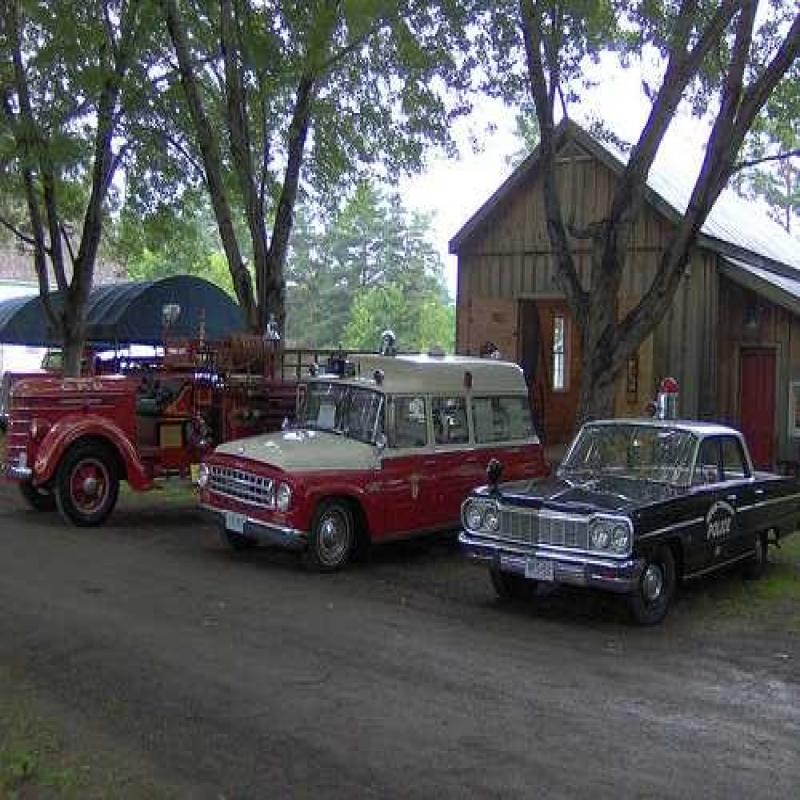AmbulanceSiren: (654, 374, 690, 424)
